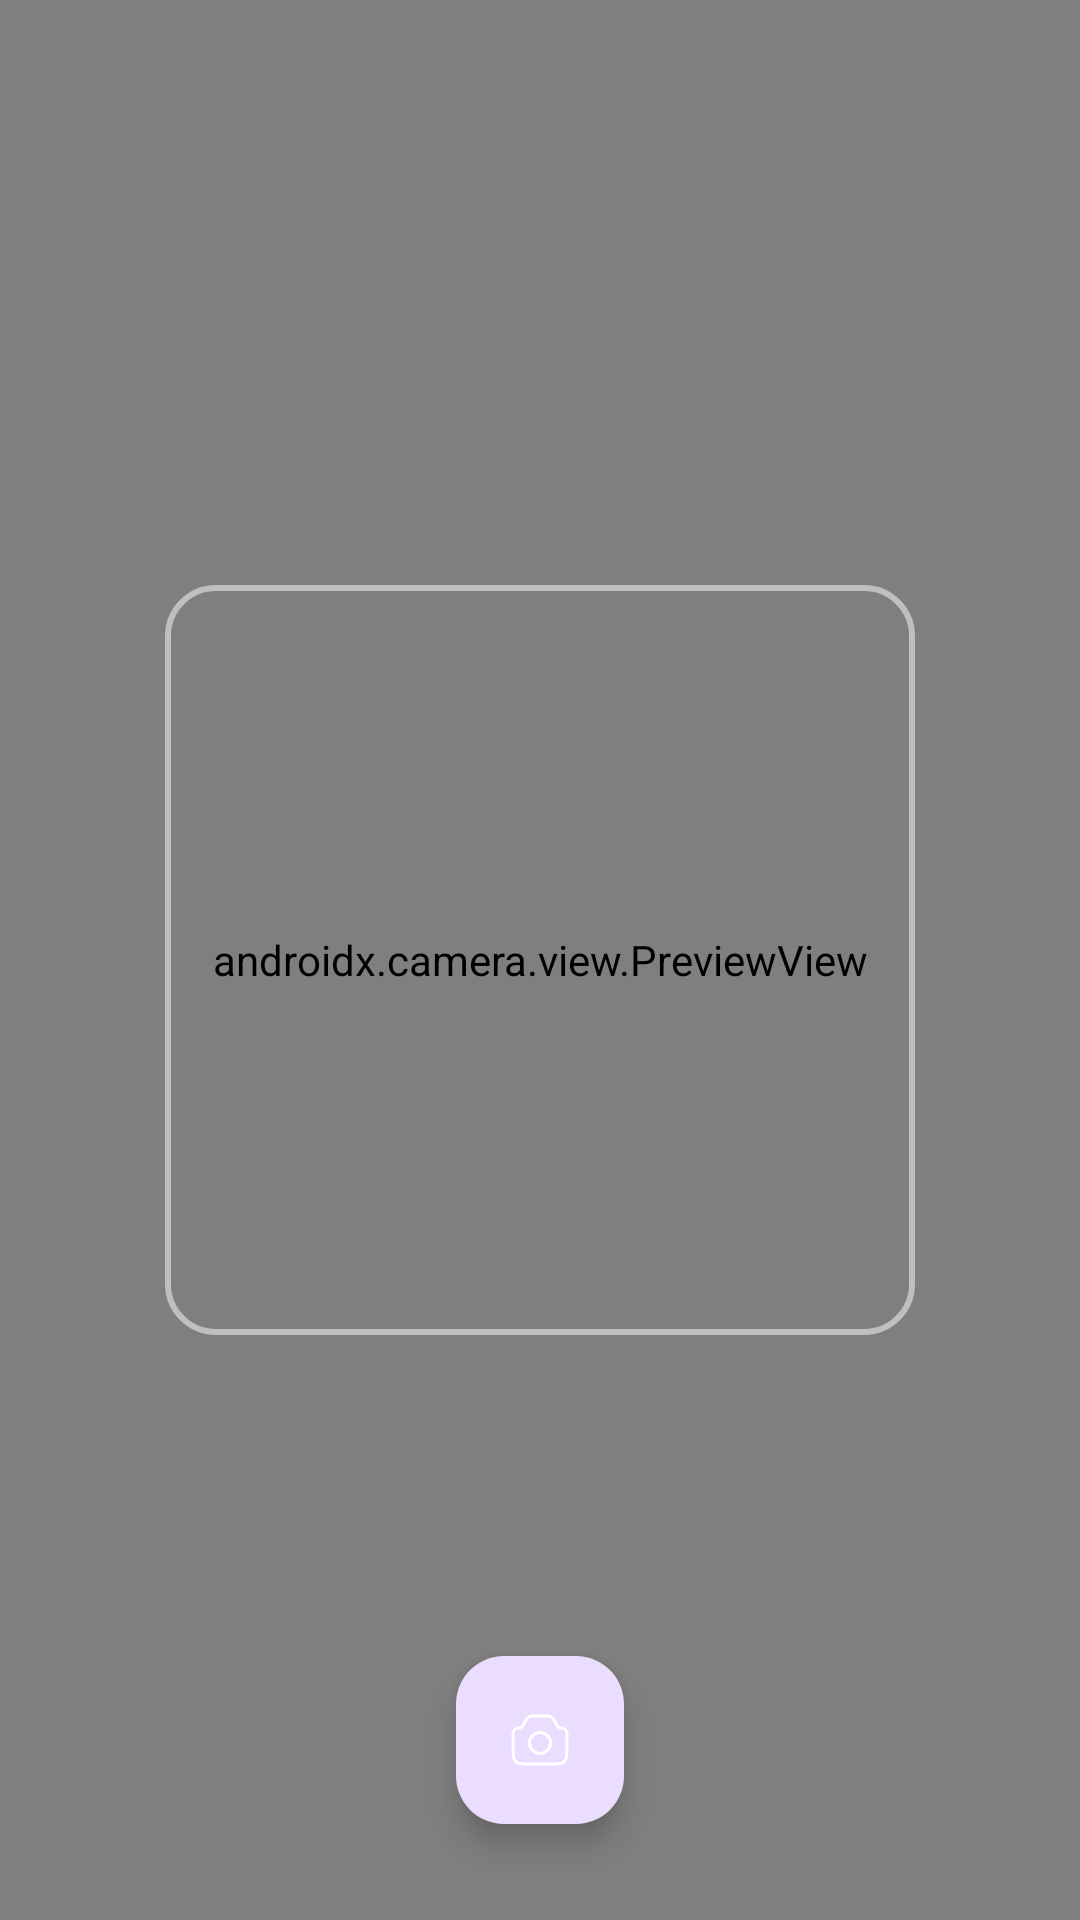

Locate icon controls on the screen. Image size 1080px×1920px, boxes as BBox(x1, y1, x2, y2).
scan: BBox(456, 1656, 624, 1824)
